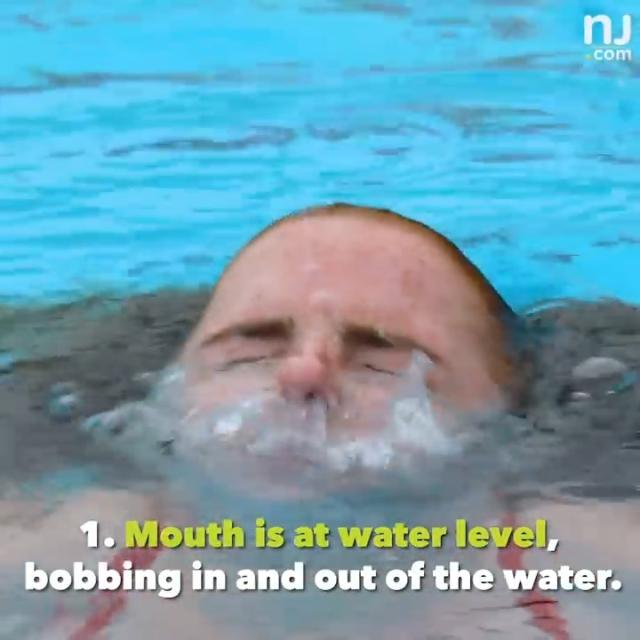Drowning: (132, 189, 540, 490)
